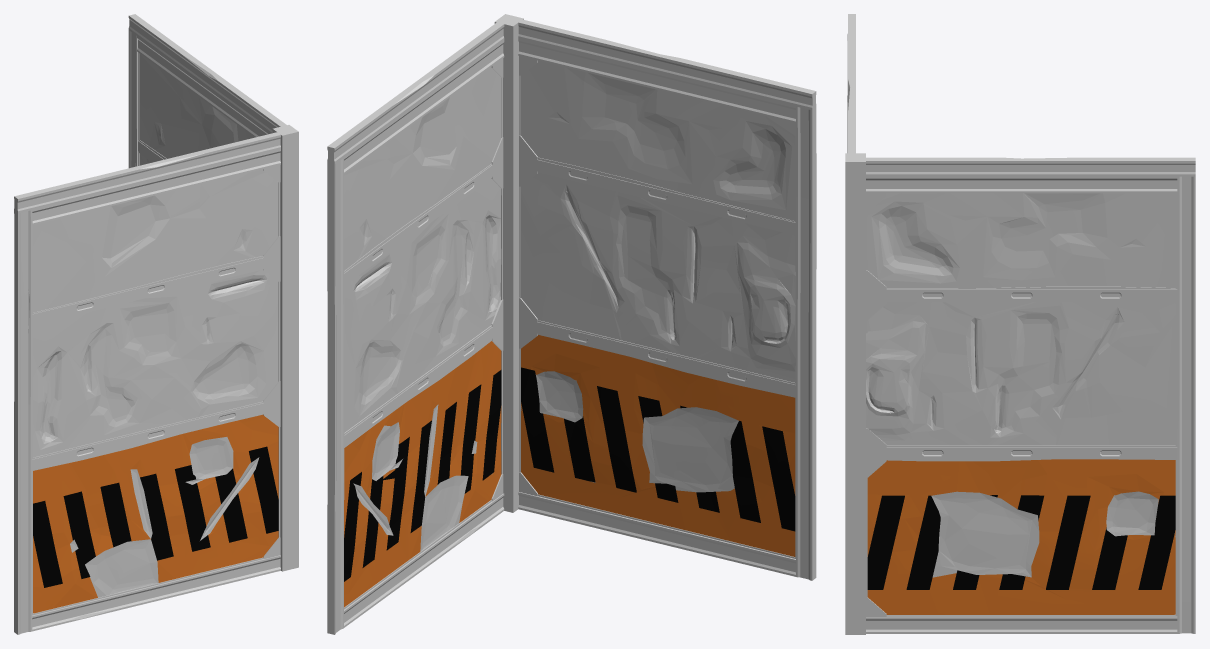
The model's file is SM_Wall_Angle_Broken_03.glb.
3 views of the same model, side by side, from view 1: azimuth 30°, elevation 25°; view 2: azimuth 150°, elevation 25°; view 3: azimuth 270°, elevation 25° (orthographic). The views are drawn at different scales.
Parts seen in each view (by area): view 1: SM_Wall_Angle_Broken_03; view 2: SM_Wall_Angle_Broken_03; view 3: SM_Wall_Angle_Broken_03.
Part boxes in pixels (bbox=[...]): SM_Wall_Angle_Broken_03: bbox=[14, 14, 298, 634]; SM_Wall_Angle_Broken_03: bbox=[327, 14, 816, 634]; SM_Wall_Angle_Broken_03: bbox=[845, 14, 1195, 634].
Bounding box in the file's own units: 2.01 × 3 × 2.01.
